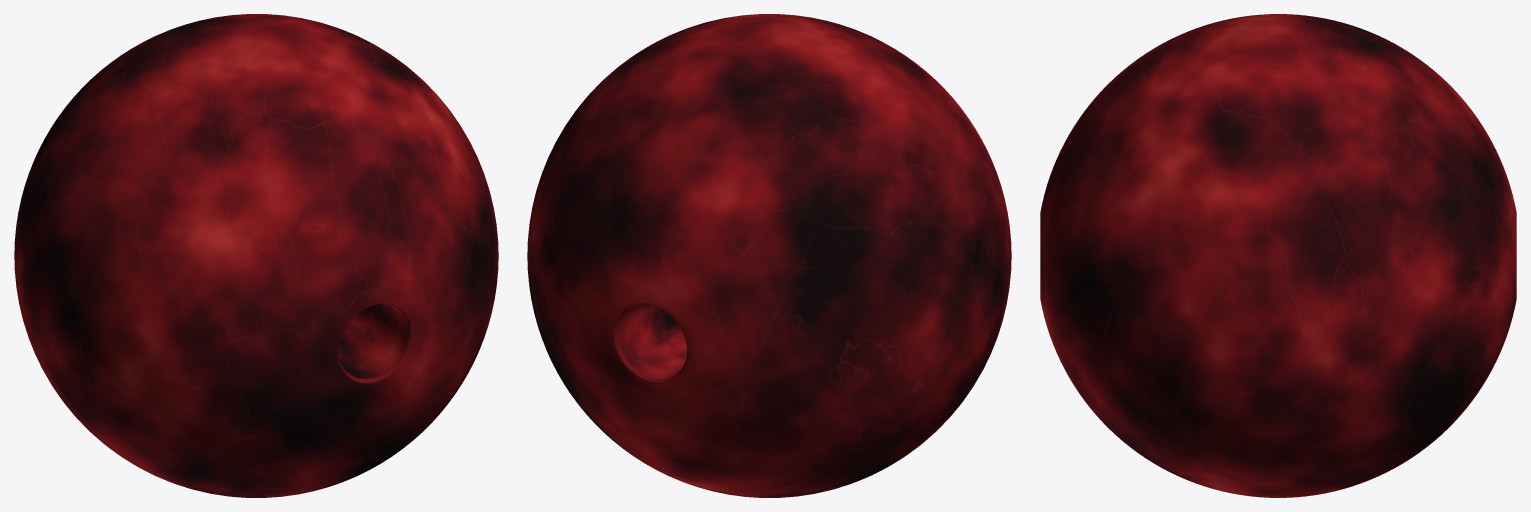
File: garnet-6mm.glb
3 views of the same model, side by side, from view 1: azimuth 30°, elevation 25°; view 2: azimuth 150°, elevation 25°; view 3: azimuth 270°, elevation 25° (orthographic).
Parts seen in each view (by area): view 1: garnet.001; view 2: garnet.001; view 3: garnet.001.
Part boxes in pixels (box(x1,y1,x2,y2)): garnet.001: box(14, 14, 498, 497); garnet.001: box(527, 14, 1011, 497); garnet.001: box(1040, 14, 1516, 497).
Size of the model in its own units: 0.006 by 0.006 by 0.0059.
2 materials, 1 textured.
